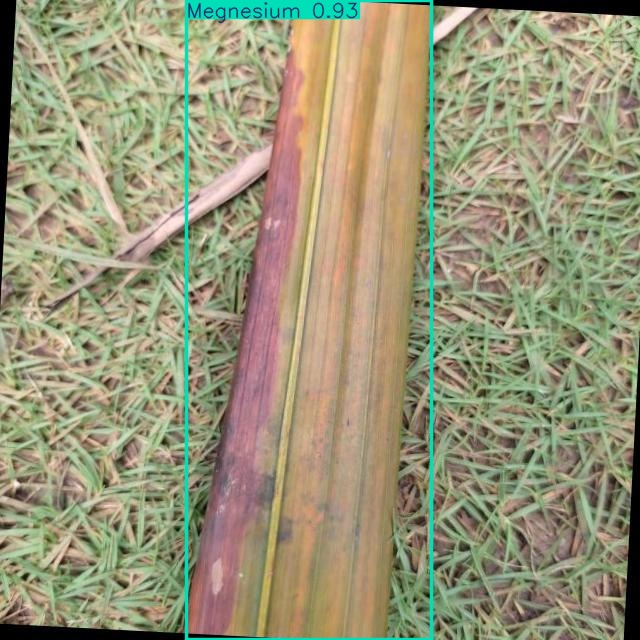Megnesium: (186, 0, 432, 639)
